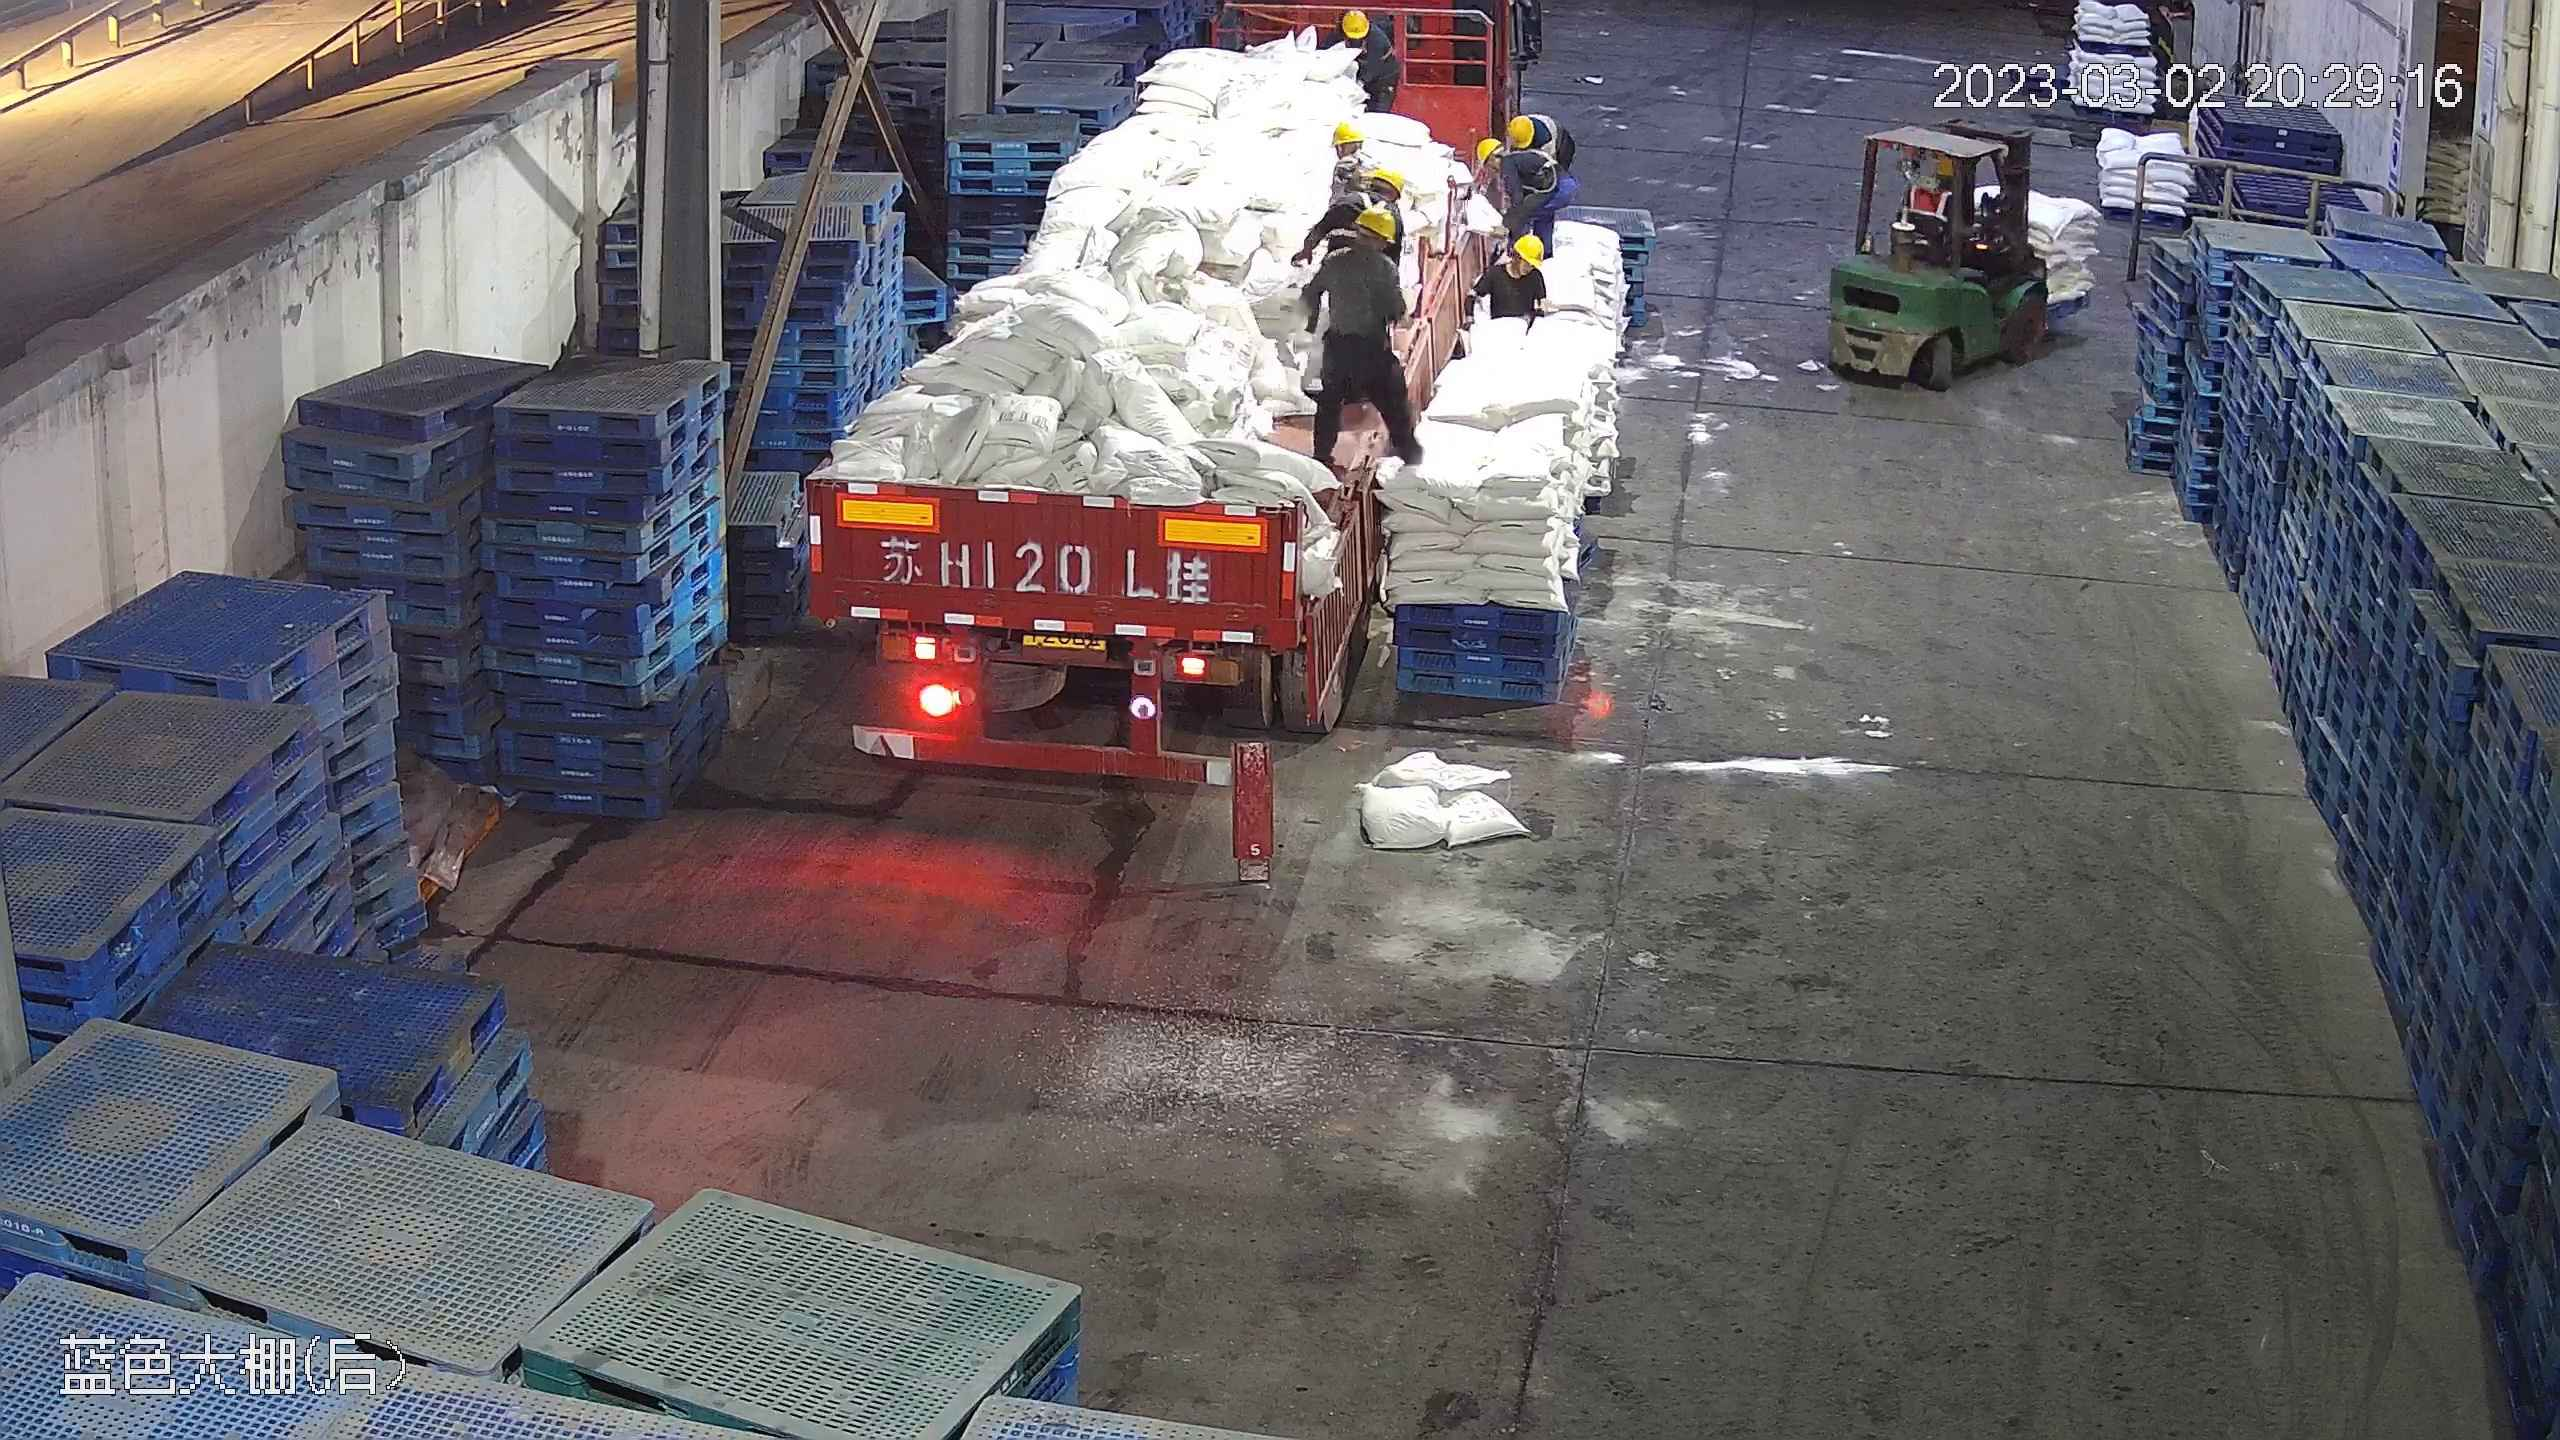belt: (1502, 146, 1562, 193), (1343, 34, 1369, 58), (1357, 190, 1387, 211), (1326, 226, 1359, 238)
head: (1317, 197, 1405, 281), (1490, 119, 1563, 180), (1324, 118, 1385, 189), (1467, 130, 1521, 195), (1487, 235, 1545, 293), (1340, 12, 1393, 68)
helmet: (1354, 202, 1401, 244), (1365, 166, 1404, 198), (1510, 232, 1544, 266), (1504, 115, 1535, 146), (1466, 137, 1499, 167), (1339, 9, 1371, 39), (1330, 121, 1363, 146), (1931, 156, 1955, 175)
people: (1301, 191, 1427, 465), (1473, 137, 1576, 262), (1326, 10, 1402, 111)
truck: (793, 11, 1388, 774)
